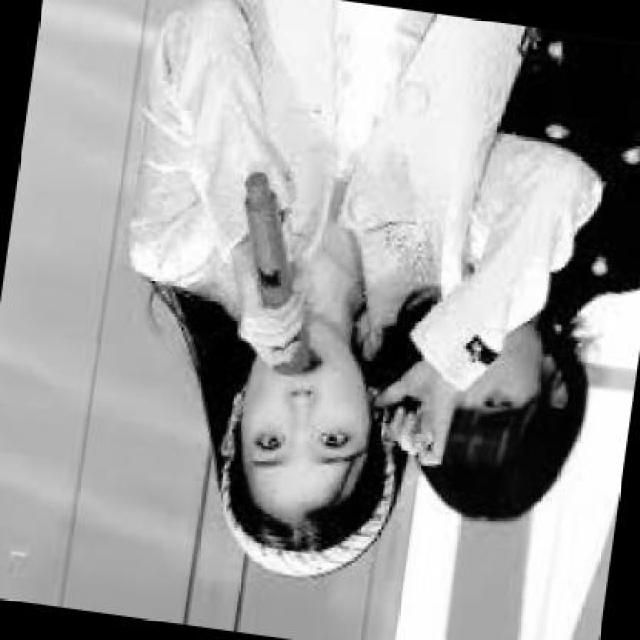earphone: (370, 396, 393, 434)
